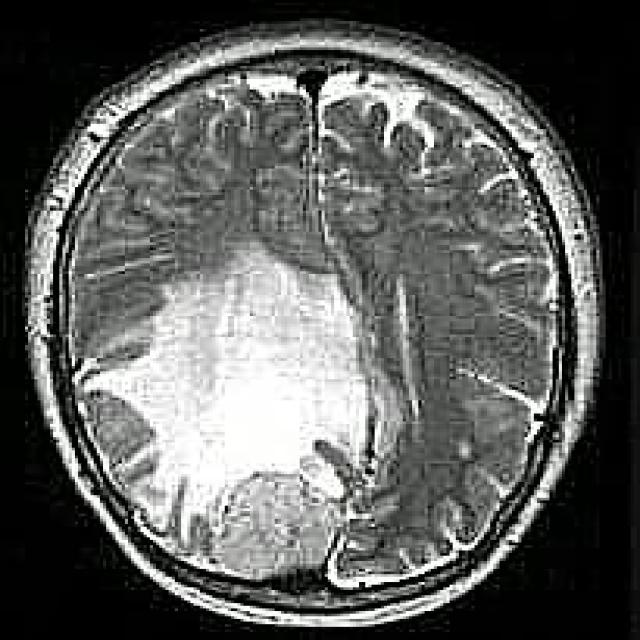Tumor-Cell: (90, 256, 379, 520)
